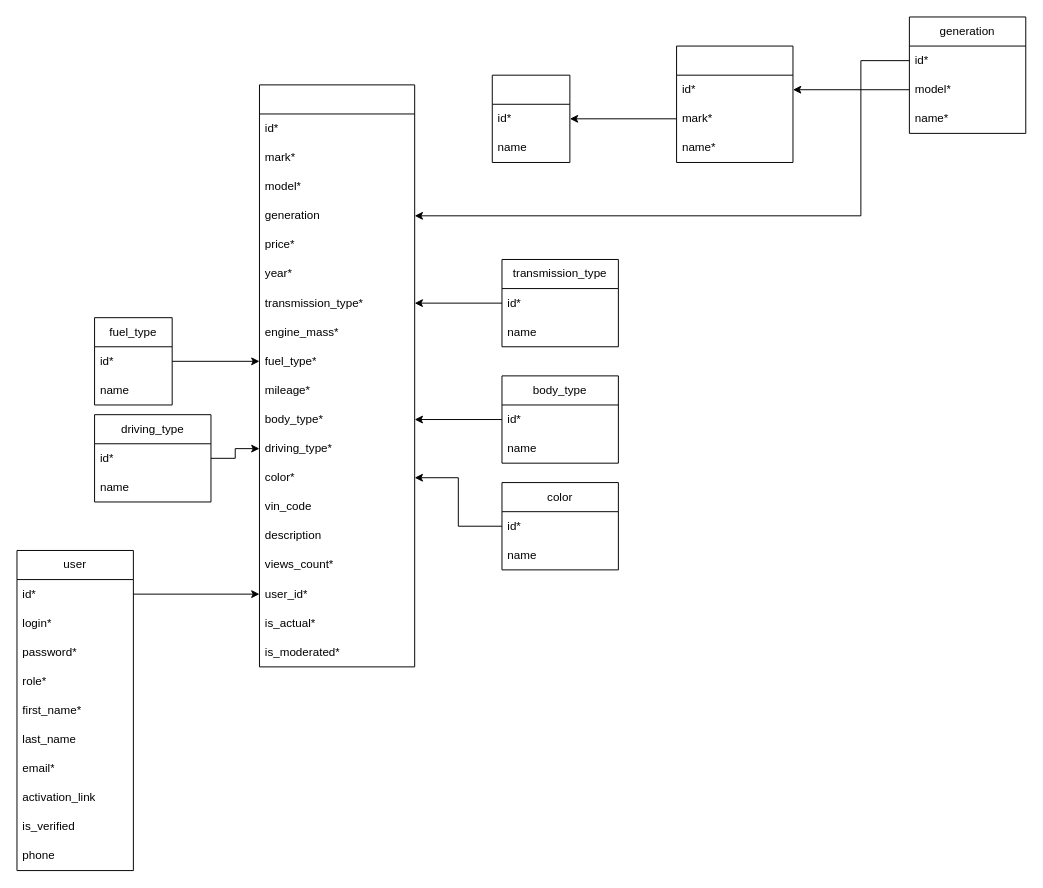
This 1043x888 diagram has some shape labels left out. The shapes that lost their labels are listed below. From the top down, each one's box as (x1, y1, x2, y2) in pixels, then its label:
(491, 74, 570, 162): mark
(676, 45, 793, 162): model
(259, 84, 415, 667): advertise
